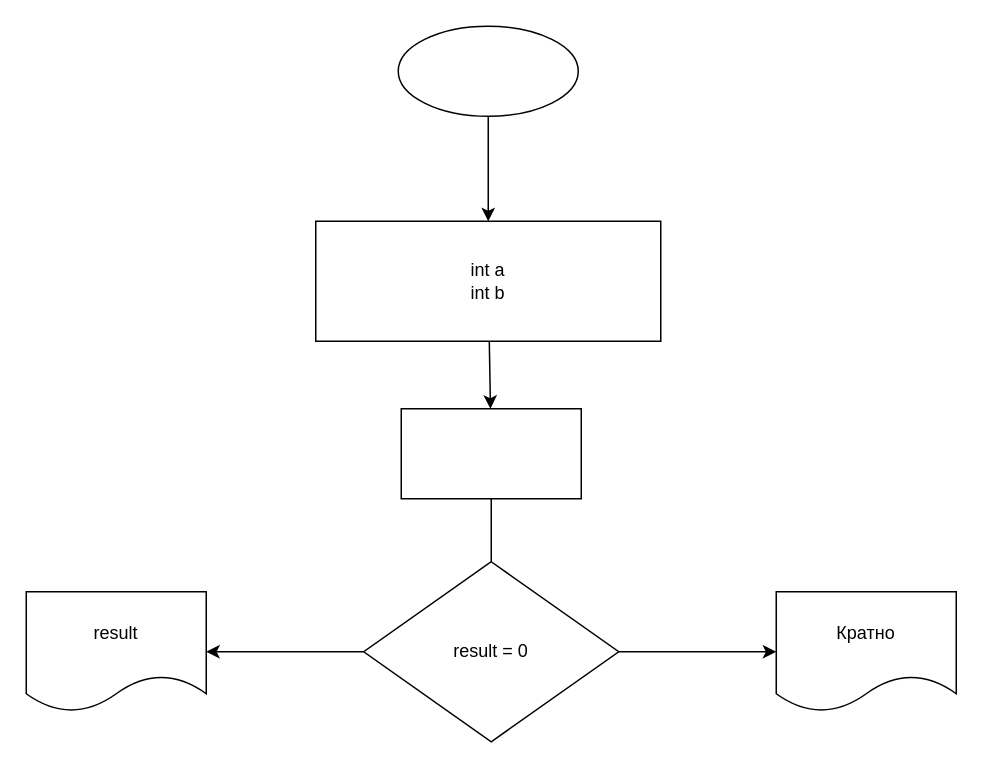
The diagram is 983 pixels wide and 768 high, and some of its shapes have lost their labels. Here are the shapes that lost their labels. From the top down, the box of each, then its label:
(397, 25, 578, 116): Start
(400, 407, 581, 499): result mod = a / b
